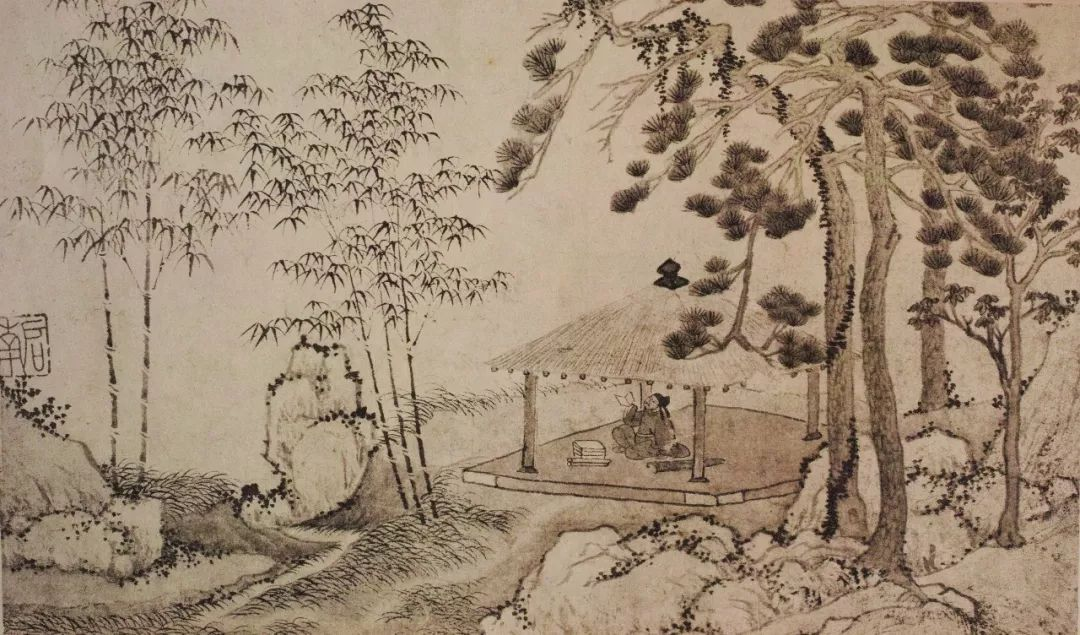bamboo: (66, 9, 251, 268), (341, 19, 419, 332), (266, 107, 346, 337), (423, 86, 502, 306), (369, 341, 433, 507), (102, 267, 121, 478), (141, 272, 150, 478)
booth: (540, 289, 810, 377), (520, 374, 541, 468), (692, 390, 711, 477), (807, 377, 819, 439)
grass: (21, 574, 481, 633), (361, 509, 517, 567), (163, 475, 233, 509), (438, 390, 511, 412)
man: (628, 397, 674, 456)
tree: (557, 10, 1065, 193), (832, 200, 905, 568), (975, 205, 1035, 548), (707, 188, 819, 367), (915, 207, 954, 406), (512, 60, 553, 185), (1041, 216, 1080, 320), (678, 326, 712, 354)
